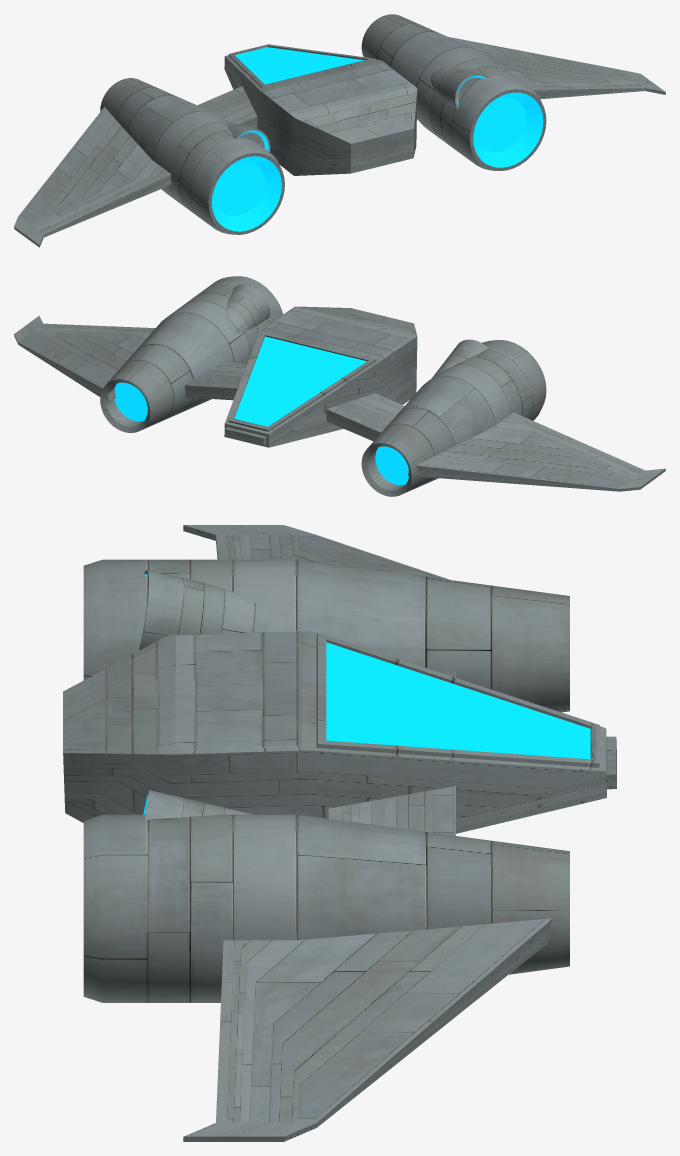
File: car.fbx
The picture shows the model from 3 angles, top to bottom: view 1: azimuth 30°, elevation 25°; view 2: azimuth 150°, elevation 25°; view 3: azimuth 270°, elevation 25°; orthographic projection. The views are drawn at different scales.
Visible parts, largest first — view 1: Cylinder, Cube, Cube_1, Cylinder_1, Cube_2; view 2: Cylinder, Cube, Cube_1, Cube_2, Cylinder_1; view 3: Cylinder, Cube, Cube_1, Cylinder_1, Cube_2.
Part boxes in pixels (x1,y1,x2,y2): Cylinder: (100, 14, 546, 234); Cube: (224, 44, 417, 175); Cube_1: (14, 37, 665, 247); Cylinder_1: (225, 67, 488, 152); Cube_2: (197, 62, 384, 128); Cylinder: (100, 276, 546, 496); Cube: (224, 306, 417, 447); Cube_1: (14, 316, 665, 491); Cube_2: (184, 362, 404, 441); Cylinder_1: (225, 284, 488, 377); Cylinder: (83, 559, 569, 1002); Cube: (63, 631, 616, 833); Cube_1: (183, 525, 552, 1141); Cylinder_1: (139, 570, 271, 819); Cube_2: (328, 668, 455, 835).
Bounding box in the file's own units: 294 × 40.82 × 112.
2 materials, 1 textured.
